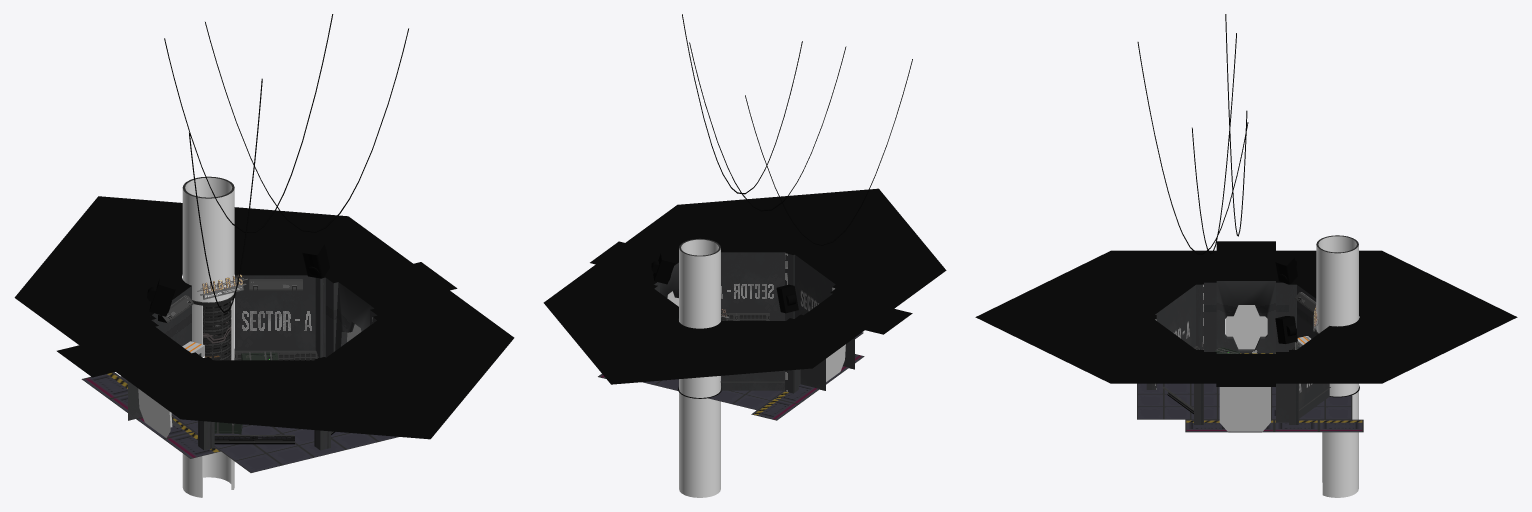
File: Textures_Test.glb
3 views of the same model, side by side, from view 1: azimuth 30°, elevation 25°; view 2: azimuth 150°, elevation 25°; view 3: azimuth 270°, elevation 25° (orthographic). The views are drawn at different scales.
Visible parts, largest first — view 1: Cylinder, Cylinder.001, Door_Frame.001, Plane.003, Door_Frame, Plane.002, Cube.001, Cube.002, Plate_Covers.001, Cube, Cylinder.003, Fluent_Wire.copy.002 (+5 smaller); view 2: Cylinder, Cylinder.001, Door_Frame, Door_Frame.001, Plane.003, Plane.002, Cube.002, Cube.001, Fluent_Wire.copy, Fluent_Wire.copy.001, Fluent_Wire.copy.002, Plate_Covers.001; view 3: Cylinder, Cylinder.001, Door_Frame, Plane.003, Door_Frame.001, Plane.002, Cube.001, Door_R.001, Cube.002, Door_L.001, Door_R, Door_L.
Boxes of the visible parts, x1,y1,x2,y2 form: Cylinder: (14,196,514,439); Cylinder.001: (182,176,236,497); Door_Frame.001: (335,262,457,350); Plane.003: (119,349,398,472); Door_Frame: (57,327,190,427); Plane.002: (81,372,220,458); Cube.001: (148,276,380,450); Cube.002: (147,241,329,316); Plate_Covers.001: (214,350,335,444); Cube: (158,279,302,322); Cylinder.003: (203,301,231,340); Fluent_Wire.copy.002: (189,78,262,312); Cylinder: (543,188,946,390); Cylinder.001: (679,238,720,497); Door_Frame: (804,294,912,334); Door_Frame.001: (590,241,678,297); Plane.003: (642,332,863,410); Plane.002: (598,354,864,420); Cube.002: (651,253,798,313); Cube.001: (651,252,838,393); Fluent_Wire.copy: (689,42,846,211); Fluent_Wire.copy.001: (682,14,802,194); Fluent_Wire.copy.002: (745,59,912,245); Plate_Covers.001: (720,313,784,387); Cylinder: (975,250,1517,422); Cylinder.001: (1315,235,1358,497); Door_Frame: (1216,241,1275,353); Plane.003: (1137,383,1352,419); Door_Frame.001: (1216,354,1275,386); Plane.002: (1185,353,1363,432); Cube.001: (1146,282,1298,424); Door_R.001: (1219,387,1250,432); Cube.002: (1275,253,1297,343); Door_L.001: (1246,387,1270,432); Door_R: (1242,305,1267,349); Door_L: (1225,305,1245,349).
Bounding box in the file's own units: 22.8 × 31.44 × 35.95.
37 materials, 14 textured.
